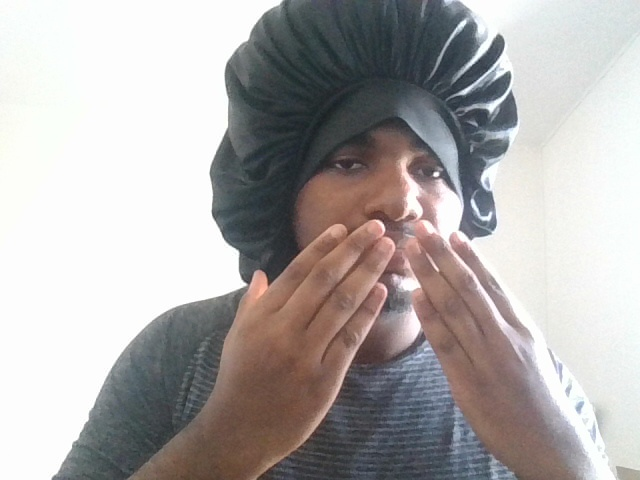Thank You: (195, 190, 618, 471)
